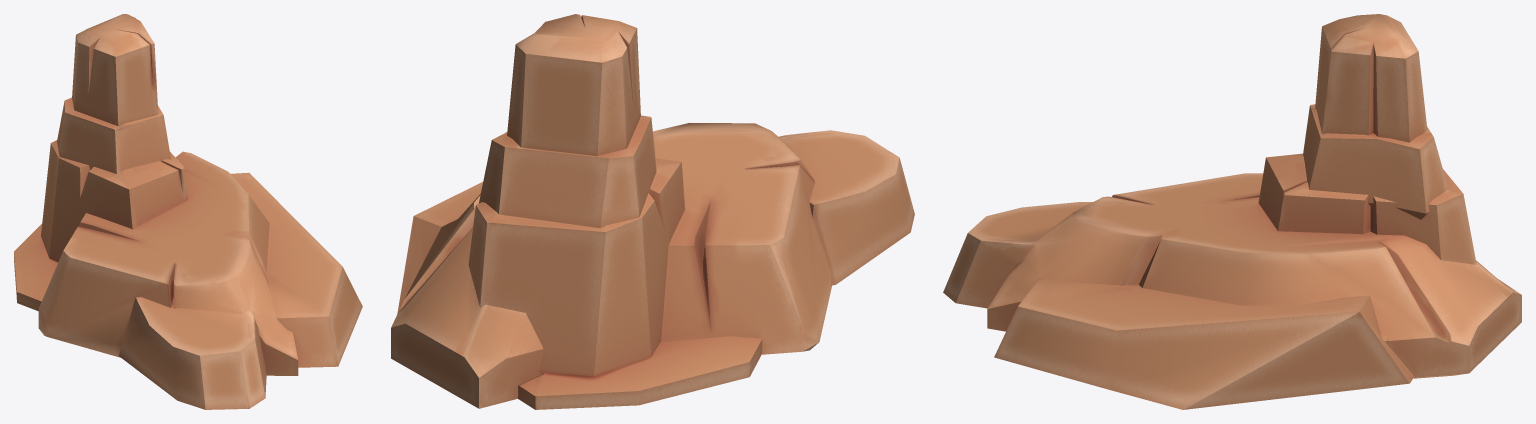
File: rock_8.fbx
The picture shows the model from 3 angles, left to right: view 1: azimuth 30°, elevation 25°; view 2: azimuth 150°, elevation 25°; view 3: azimuth 270°, elevation 25°; orthographic projection. The views are drawn at different scales.
Visible parts, largest first — view 1: Rock_8; view 2: Rock_8; view 3: Rock_8.
Boxes of the visible parts, x1,y1,x2,y2 form: Rock_8: (14,14,362,409); Rock_8: (391,14,914,409); Rock_8: (943,14,1521,409).
Bounding box in the file's own units: 489 × 424 × 752.
1 material, 1 textured.
